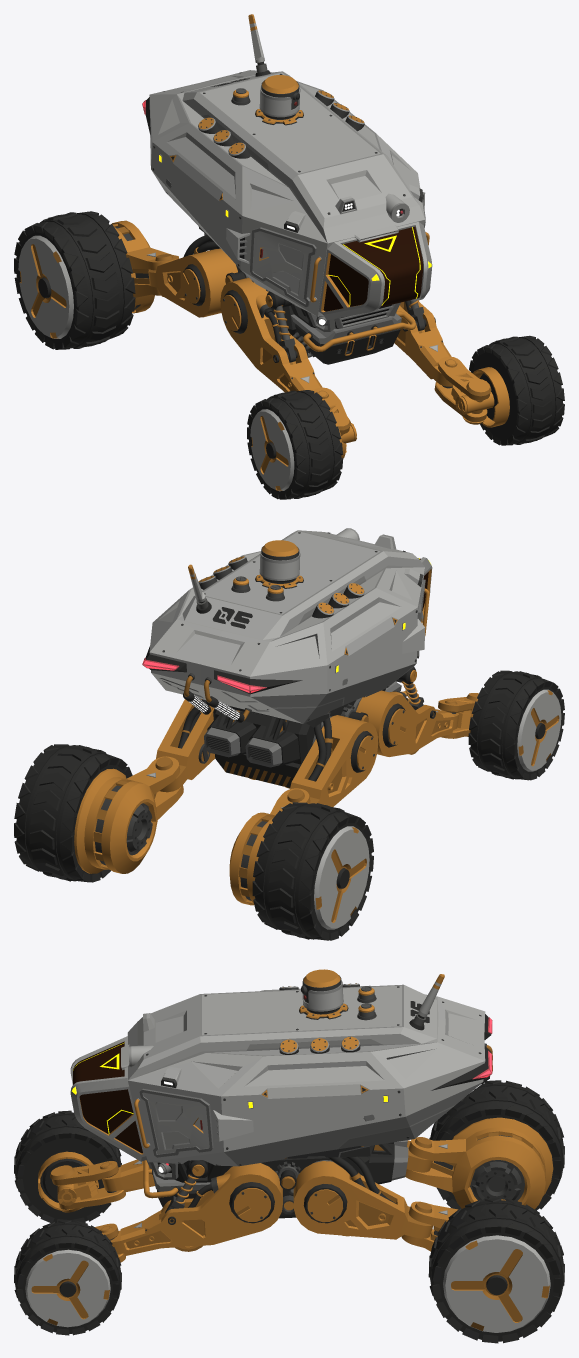
Rendered from xyzschool_hw11draft1.glb.
The picture shows the model from 3 angles, top to bottom: view 1: azimuth 30°, elevation 25°; view 2: azimuth 150°, elevation 25°; view 3: azimuth 270°, elevation 25°; orthographic projection.
Visible parts, largest first — view 1: Cube.001, Cube, Cube.002, Cylinder, Cube.011, Cylinder.004, Cylinder.022, Cube.020, Cylinder.040, Cylinder.024, Cube.010, Cylinder.025 (+11 smaller); view 2: Cube, Cube.001, Cylinder.044, Cylinder.004, Cube.010, Cylinder.025, Cylinder.023, Cylinder.022, Cylinder, Cube.011, Cylinder.021, Cylinder.040 (+14 smaller); view 3: Cube, Cube.001, Cylinder.044, Cylinder.022, Cube.011, Cylinder.004, Cylinder, Cube.010, Cube.002, Cylinder.025, Cylinder.021, Cube.020 (+21 smaller).
Part boxes in pixels (x1=…): Cube.001: x1=182, y1=71, x2=424, y2=243; Cube: x1=149, y1=70, x2=424, y2=316; Cube.002: x1=318, y1=221, x2=432, y2=320; Cylinder: x1=248, y1=337, x2=562, y2=498; Cube.011: x1=220, y1=277, x2=453, y2=392; Cylinder.004: x1=16, y1=213, x2=133, y2=348; Cylinder.022: x1=18, y1=235, x2=73, y2=338; Cube.020: x1=250, y1=188, x2=425, y2=306; Cylinder.040: x1=247, y1=335, x2=564, y2=499; Cylinder.024: x1=267, y1=336, x2=552, y2=498; Cube.010: x1=148, y1=248, x2=237, y2=317; Cylinder.025: x1=14, y1=211, x2=135, y2=349; Cube: x1=149, y1=551, x2=424, y2=723; Cube.001: x1=182, y1=530, x2=424, y2=639; Cylinder.044: x1=74, y1=756, x2=310, y2=905; Cylinder.004: x1=16, y1=745, x2=371, y2=939; Cube.010: x1=156, y1=699, x2=378, y2=806; Cylinder.025: x1=14, y1=744, x2=373, y2=940; Cylinder.023: x1=30, y1=745, x2=344, y2=939; Cylinder.022: x1=314, y1=826, x2=369, y2=929; Cylinder: x1=470, y1=671, x2=562, y2=778; Cube.011: x1=356, y1=690, x2=458, y2=756; Cylinder.021: x1=517, y1=689, x2=561, y2=771; Cylinder.040: x1=468, y1=670, x2=564, y2=780; Cube: x1=127, y1=985, x2=485, y2=1166; Cube.001: x1=128, y1=984, x2=436, y2=1080; Cylinder.044: x1=401, y1=1117, x2=553, y2=1251; Cylinder.022: x1=443, y1=1235, x2=550, y2=1332; Cube.011: x1=102, y1=1159, x2=282, y2=1255; Cylinder.004: x1=430, y1=1082, x2=562, y2=1341; Cylinder: x1=15, y1=1112, x2=120, y2=1333; Cube.010: x1=293, y1=1140, x2=432, y2=1239; Cube.002: x1=70, y1=1036, x2=146, y2=1161; Cylinder.025: x1=431, y1=1080, x2=562, y2=1343; Cylinder.021: x1=25, y1=1249, x2=110, y2=1327; Cube.020: x1=139, y1=1088, x2=213, y2=1157.
Size of the model in its own units: 4.11 by 4.05 by 6.42.
